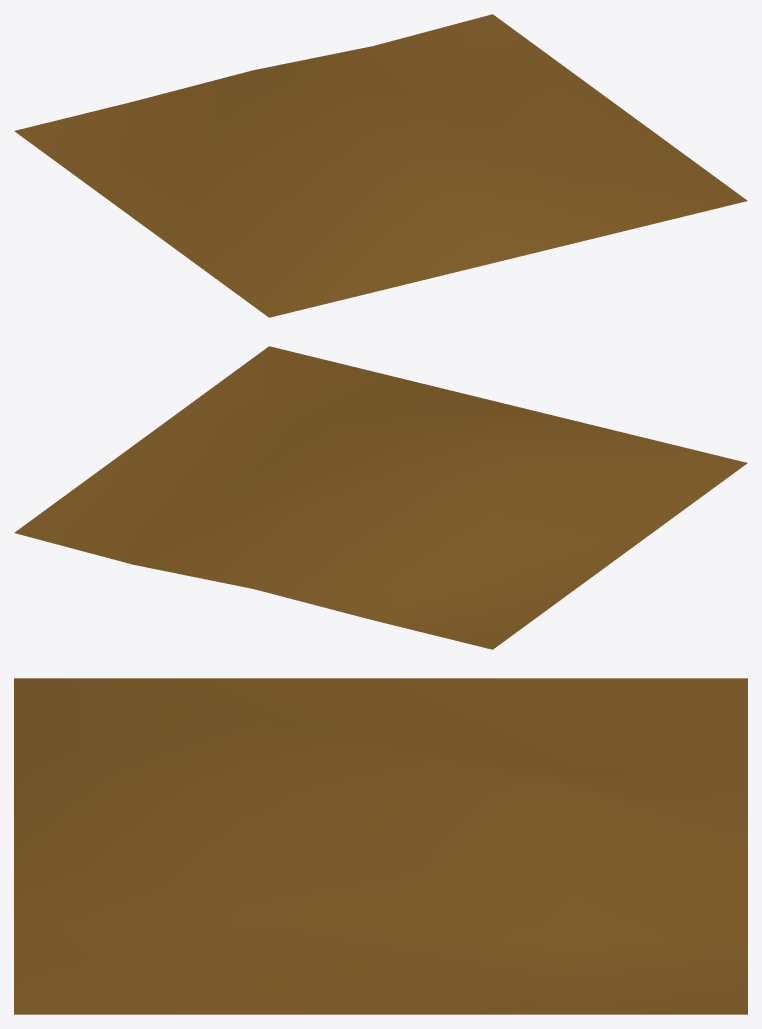
File: Planter_Medium_Dirt.fbx
3 views of the same model, one above another, from view 1: azimuth 30°, elevation 25°; view 2: azimuth 150°, elevation 25°; view 3: azimuth 270°, elevation 25° (orthographic). The views are drawn at different scales.
Visible parts, largest first — view 1: Planter_Large_Dirt; view 2: Planter_Large_Dirt; view 3: Planter_Large_Dirt.
Boxes of the visible parts, x1=… form: Planter_Large_Dirt: x1=14, y1=14, x2=747, y2=317; Planter_Large_Dirt: x1=14, y1=346, x2=747, y2=649; Planter_Large_Dirt: x1=14, y1=678, x2=747, y2=1014.
Size of the model in its own units: 52.28 by 4.92 by 48.27.
